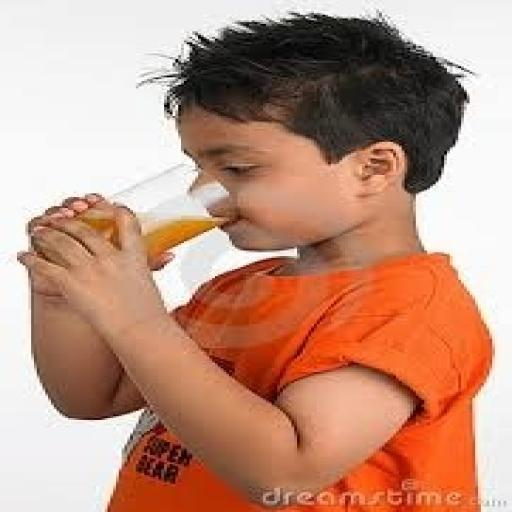drinking: (28, 9, 369, 272)
